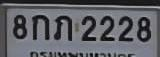2: (98, 15, 114, 40), (118, 15, 132, 41), (81, 15, 95, 40)
8: (136, 16, 150, 41), (12, 14, 26, 38)
A01: (31, 14, 49, 39)
A32: (53, 14, 72, 40)
